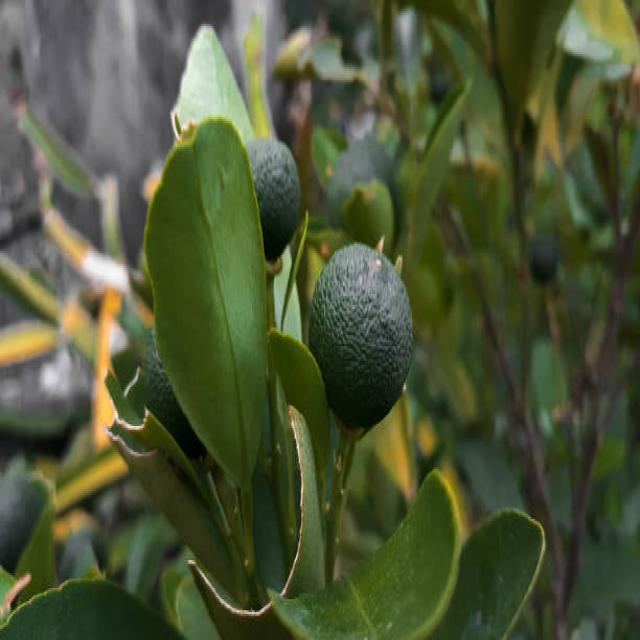Unripe: (310, 242, 413, 435)
